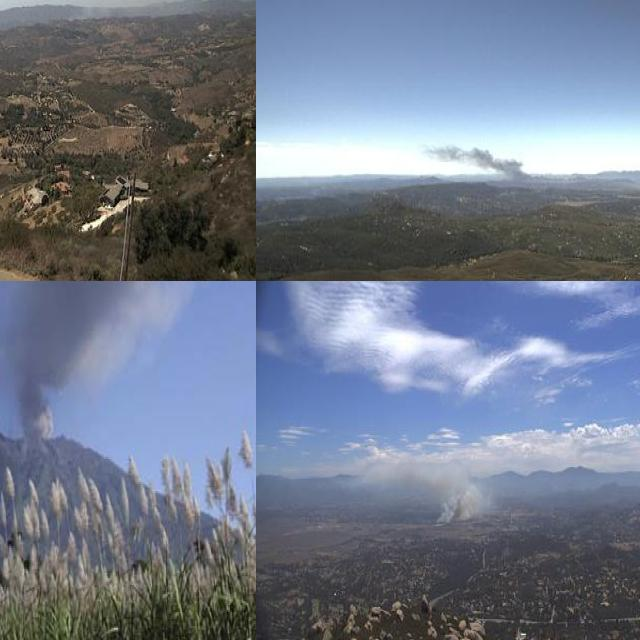smoke: (0, 281, 256, 439), (378, 456, 497, 527), (423, 141, 548, 198), (63, 0, 132, 23)
